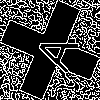A: (25, 25, 80, 75)
